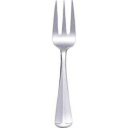fork: (46, 1, 82, 128)
